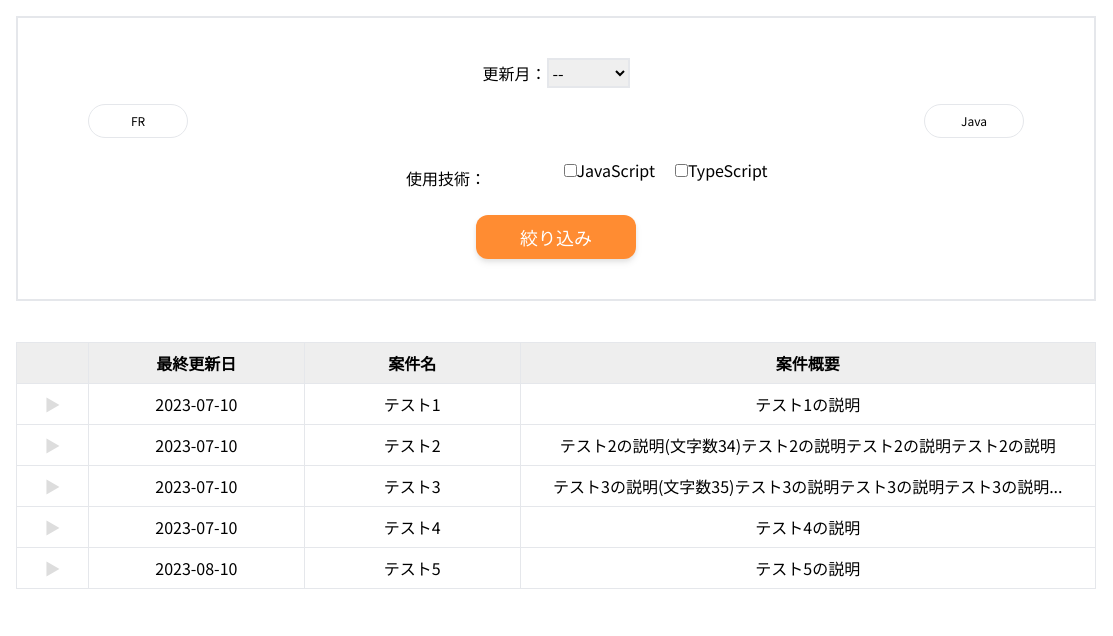
Test: データ通信エラーテスト › 絞り込みのエラーテスト › 絞り込みボタン押下後にデータの取得に失敗
The image size is (1113, 636).
Click the checkbox labelled "FR": (138, 121) [88,104,188,138]
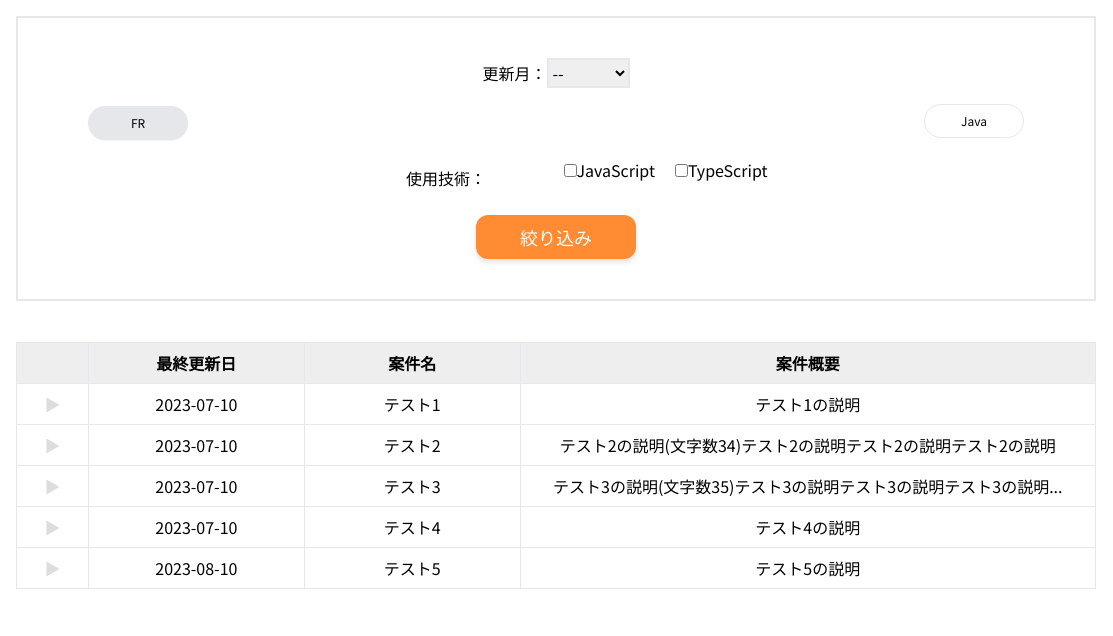
Click the button "絞り込み": (556, 236) [476,214,636,258]
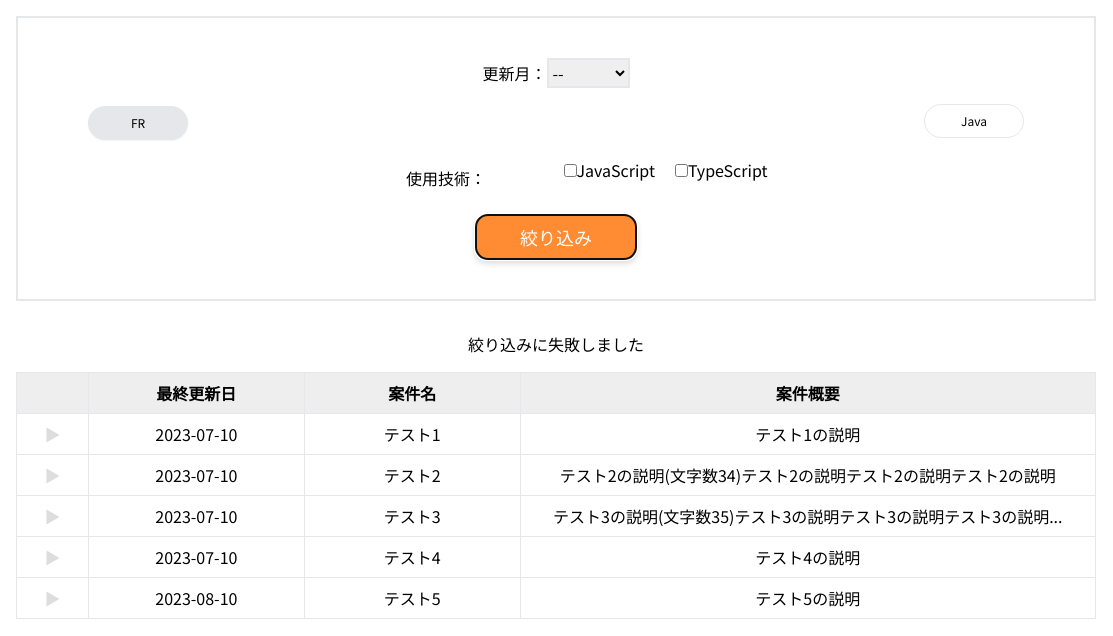
Now the text "絞り込みに失敗しました" is shown, box [468,332,644,356]
